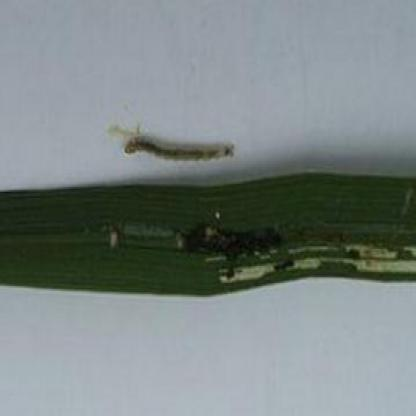leaf-folder: (124, 120, 238, 175)
